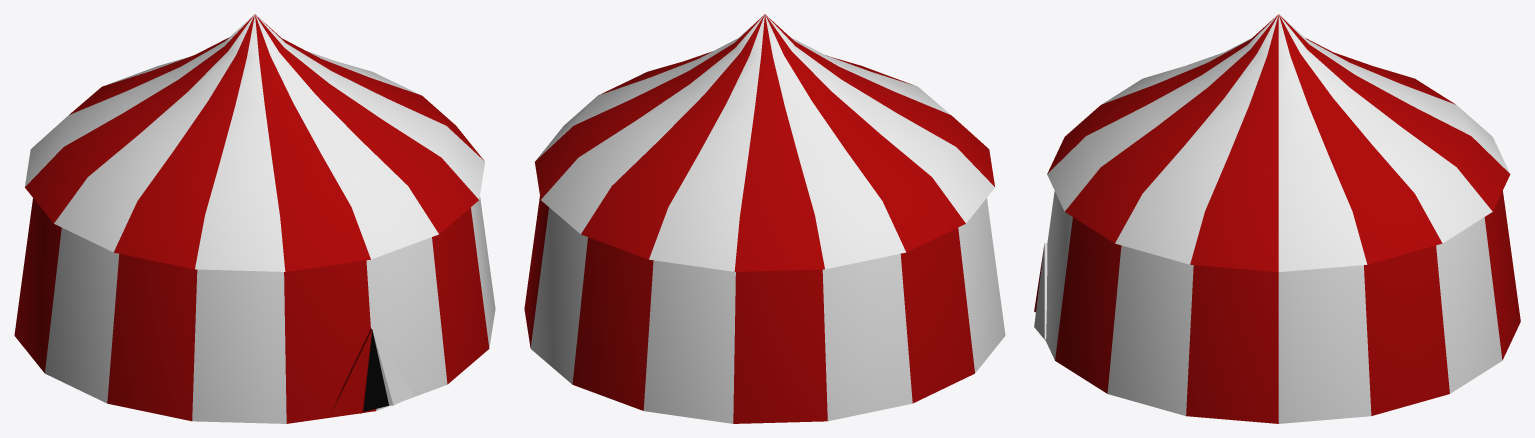
File: SM_BigTop.fbx
The picture shows the model from 3 angles, left to right: view 1: azimuth 30°, elevation 25°; view 2: azimuth 150°, elevation 25°; view 3: azimuth 270°, elevation 25°; orthographic projection.
Visible parts, largest first — view 1: bigtop; view 2: bigtop; view 3: bigtop.
Part boxes in pixels (x1,y1,x2,y2): bigtop: (14,14,495,423); bigtop: (524,14,1005,423); bigtop: (1034,14,1520,423).
Bounding box in the file's own units: 7.47 × 5.24 × 7.51.
